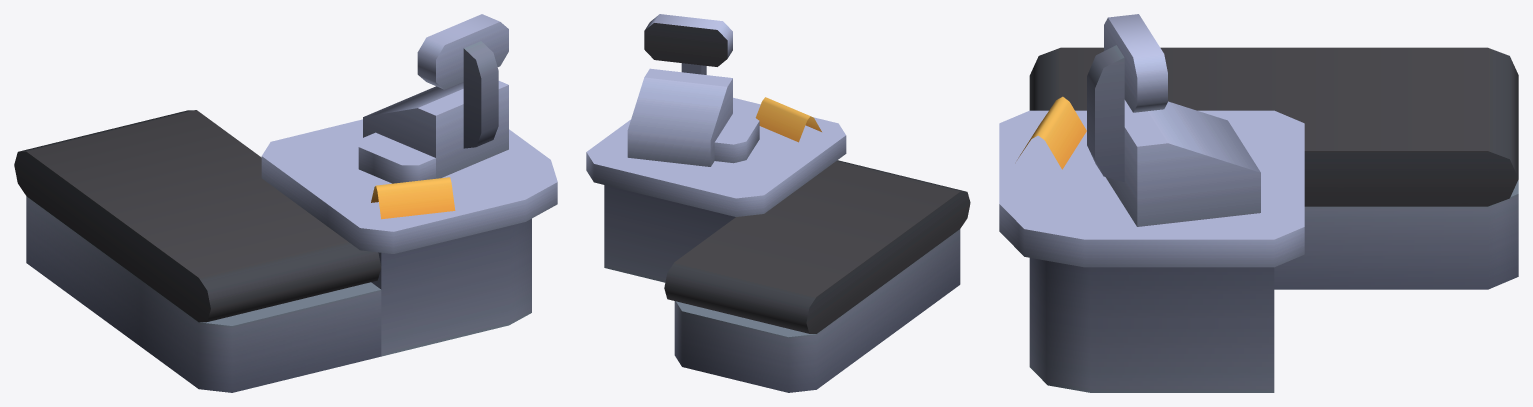
The model's file is market.cash_register.glb.
3 renders of one model, left to right at view 1: azimuth 30°, elevation 25°; view 2: azimuth 150°, elevation 25°; view 3: azimuth 270°, elevation 25°, orthographic. The views are drawn at different scales.
Parts seen in each view (by area): view 1: cash-register; view 2: cash-register; view 3: cash-register.
Boxes of the visible parts, box(x1,y1,x2,y2) form: cash-register: box(14, 14, 557, 392); cash-register: box(586, 14, 970, 392); cash-register: box(999, 14, 1518, 392).
Size of the model in its own units: 2.17 by 1.52 by 2.17.
Materials: 1 (1 with a texture image).
